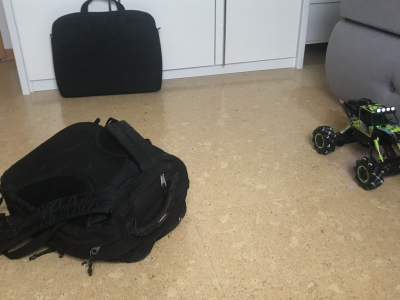remote control car: (310, 95, 400, 191)
